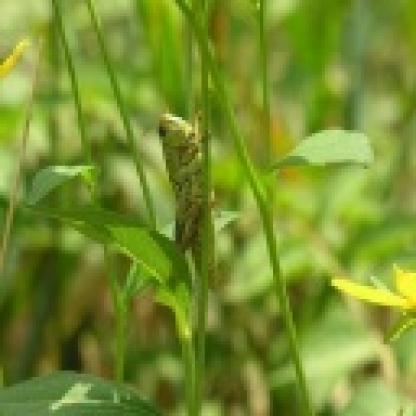grasshopper: (154, 110, 225, 277)
